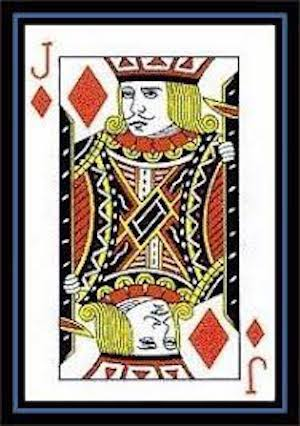JackOfDiamonds: (17, 13, 284, 410)
